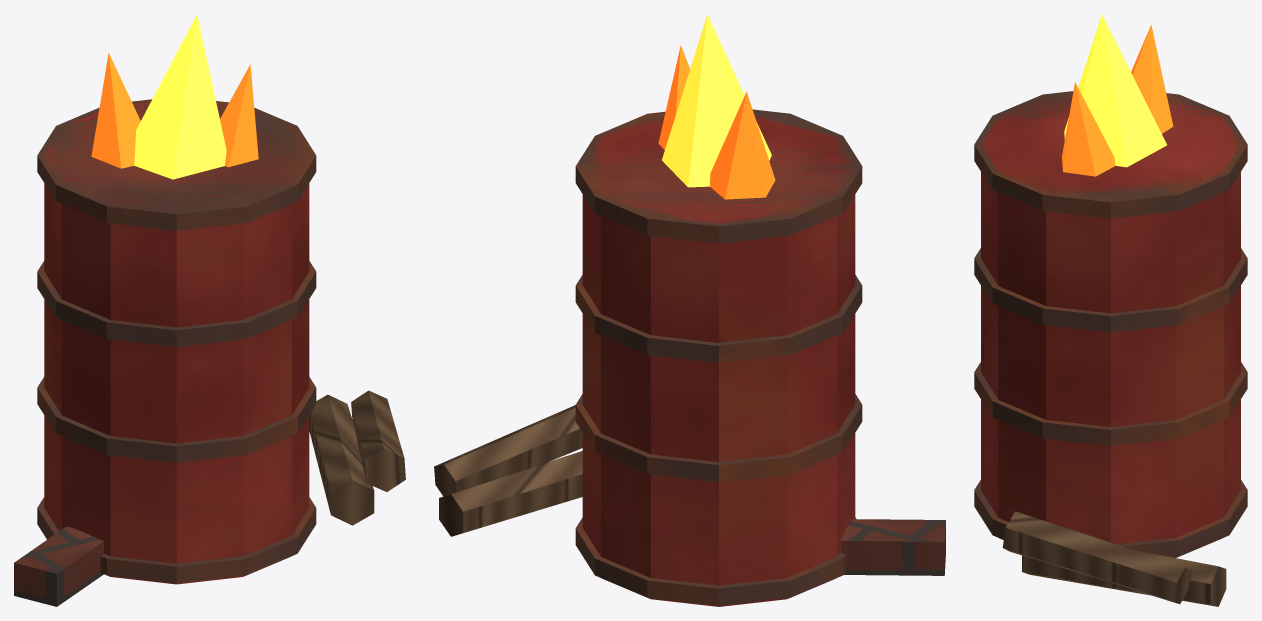
File: env_fire_barrel.glb
The picture shows the model from 3 angles, left to right: view 1: azimuth 30°, elevation 25°; view 2: azimuth 150°, elevation 25°; view 3: azimuth 270°, elevation 25°; orthographic projection. The views are drawn at different scales.
Parts seen in each view (by area): view 1: Env_fire_barrel; view 2: Env_fire_barrel; view 3: Env_fire_barrel.
Boxes of the visible parts, box(x1,y1,x2,y2) form: Env_fire_barrel: box(14, 14, 405, 606); Env_fire_barrel: box(434, 14, 945, 606); Env_fire_barrel: box(974, 14, 1247, 606).
Bounding box in the file's own units: 1.1 × 1.24 × 0.61.
6 materials, 4 textured.
